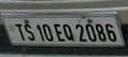0: (84, 22, 99, 44), (42, 23, 56, 43)
1: (35, 23, 46, 43)
2: (74, 22, 88, 44)
6: (104, 23, 118, 44)
8: (95, 23, 109, 44)
E: (53, 23, 67, 43)
Q: (62, 23, 77, 44)
S: (23, 22, 38, 43)
T: (13, 22, 27, 43)
